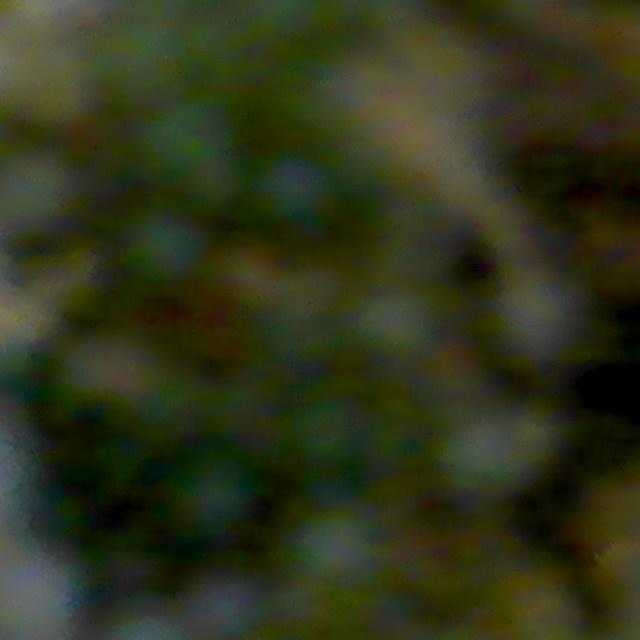SeaGrape: (437, 401, 556, 500), (494, 266, 583, 364), (295, 504, 384, 589), (355, 281, 442, 363), (0, 147, 79, 235), (125, 209, 207, 286), (175, 461, 251, 536), (0, 562, 71, 640), (256, 152, 331, 223), (32, 32, 79, 117)
